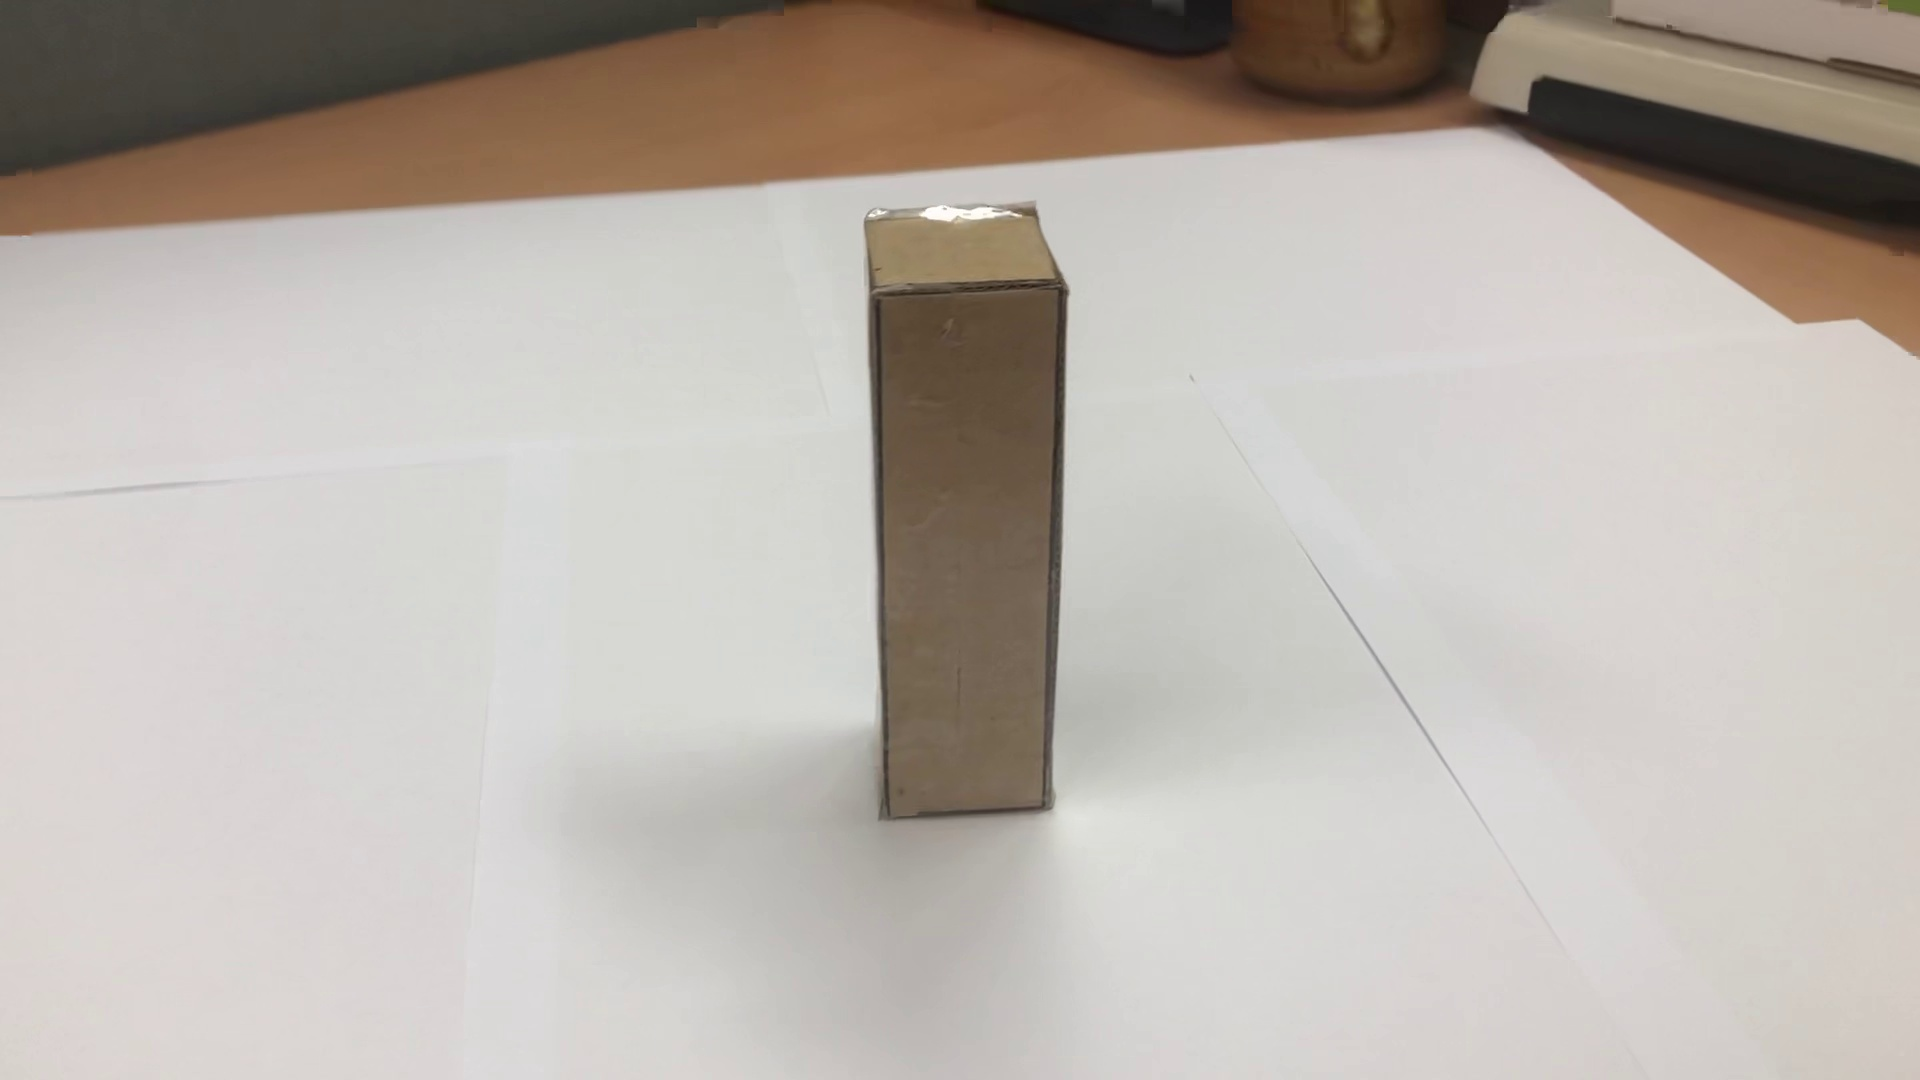box: (837, 181, 1088, 852)
